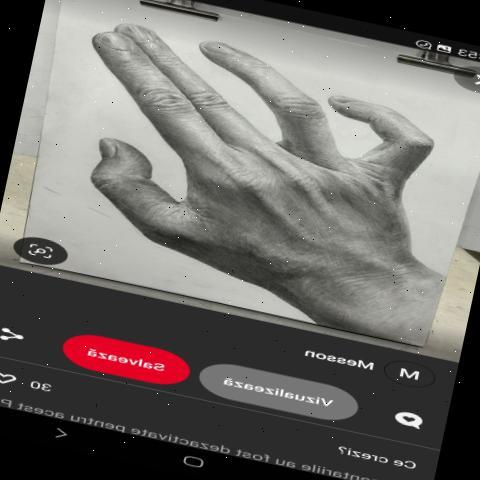Hands: (61, 17, 455, 323)
